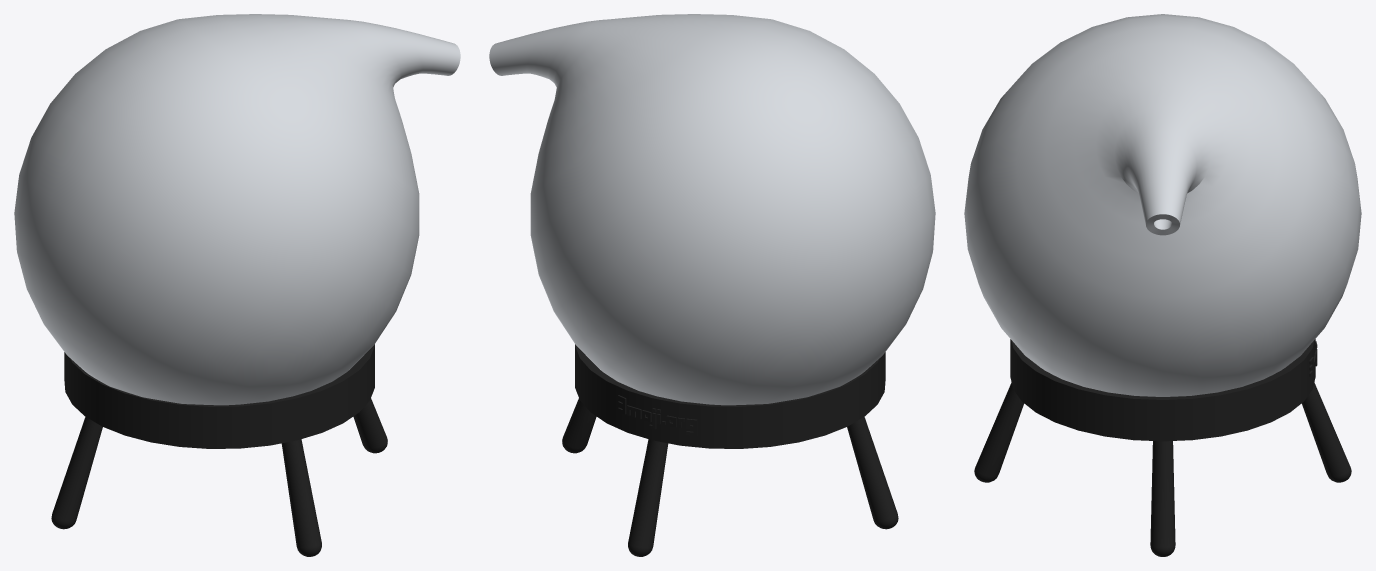
Rendered from alembic.glb.
3 renders of one model, left to right at view 1: azimuth 30°, elevation 25°; view 2: azimuth 150°, elevation 25°; view 3: azimuth 270°, elevation 25°, orthographic.
Visible parts, largest first — view 1: Circle.2594; view 2: Circle.2594; view 3: Circle.2594.
Boxes of the visible parts, x1,y1,x2,y2 form: Circle.2594: (14, 14, 460, 556); Circle.2594: (489, 14, 935, 556); Circle.2594: (964, 14, 1361, 556).
Bounding box in the file's own units: 2.1 × 2.2 × 1.77.
Materials: 2 (1 with a texture image).
